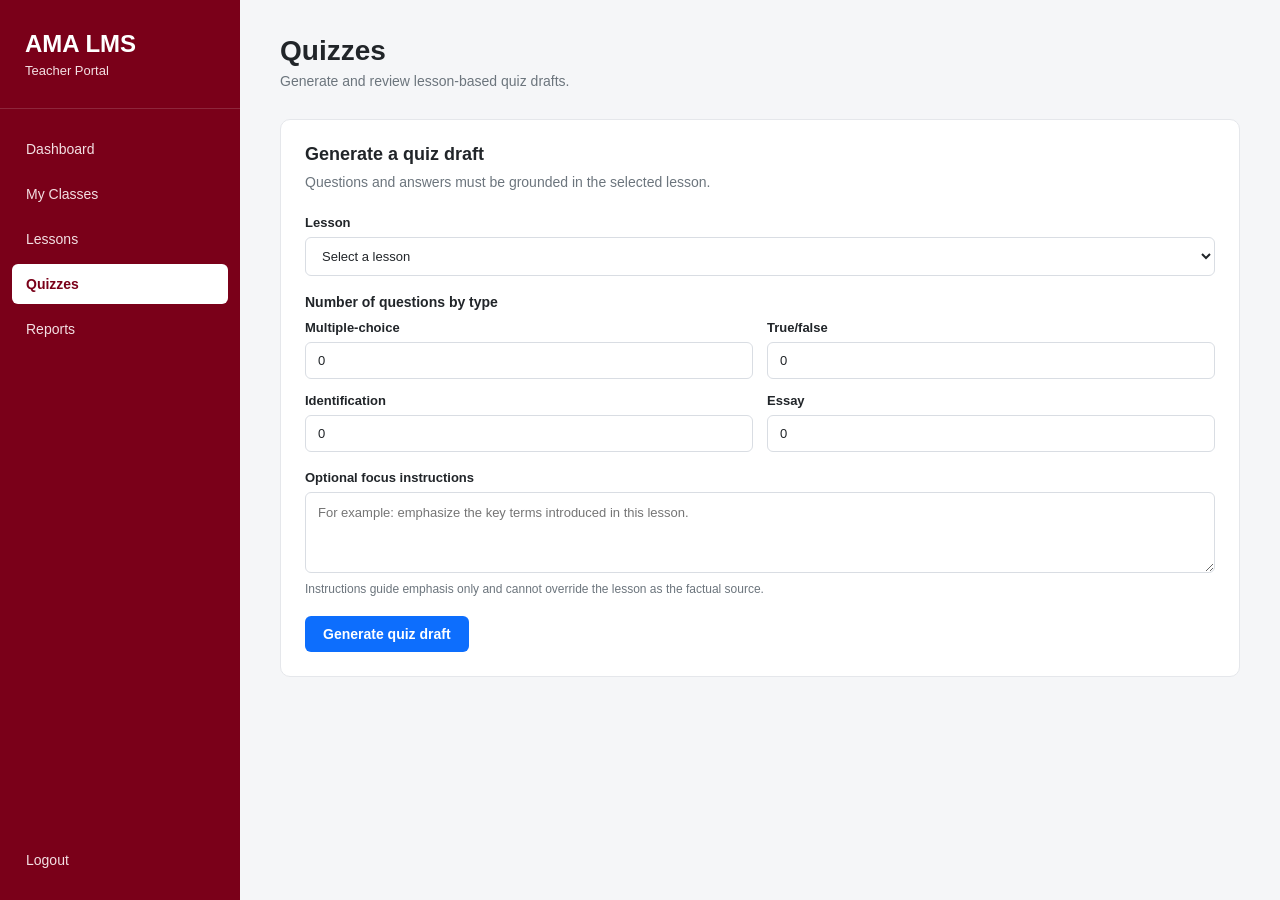
teacher quiz review › shows field-level API validation errors
Select "Cell Energy — ATP (draft)" in the dropdown labelled "Lesson". click: (760, 256)
box: [305,237,1215,276]
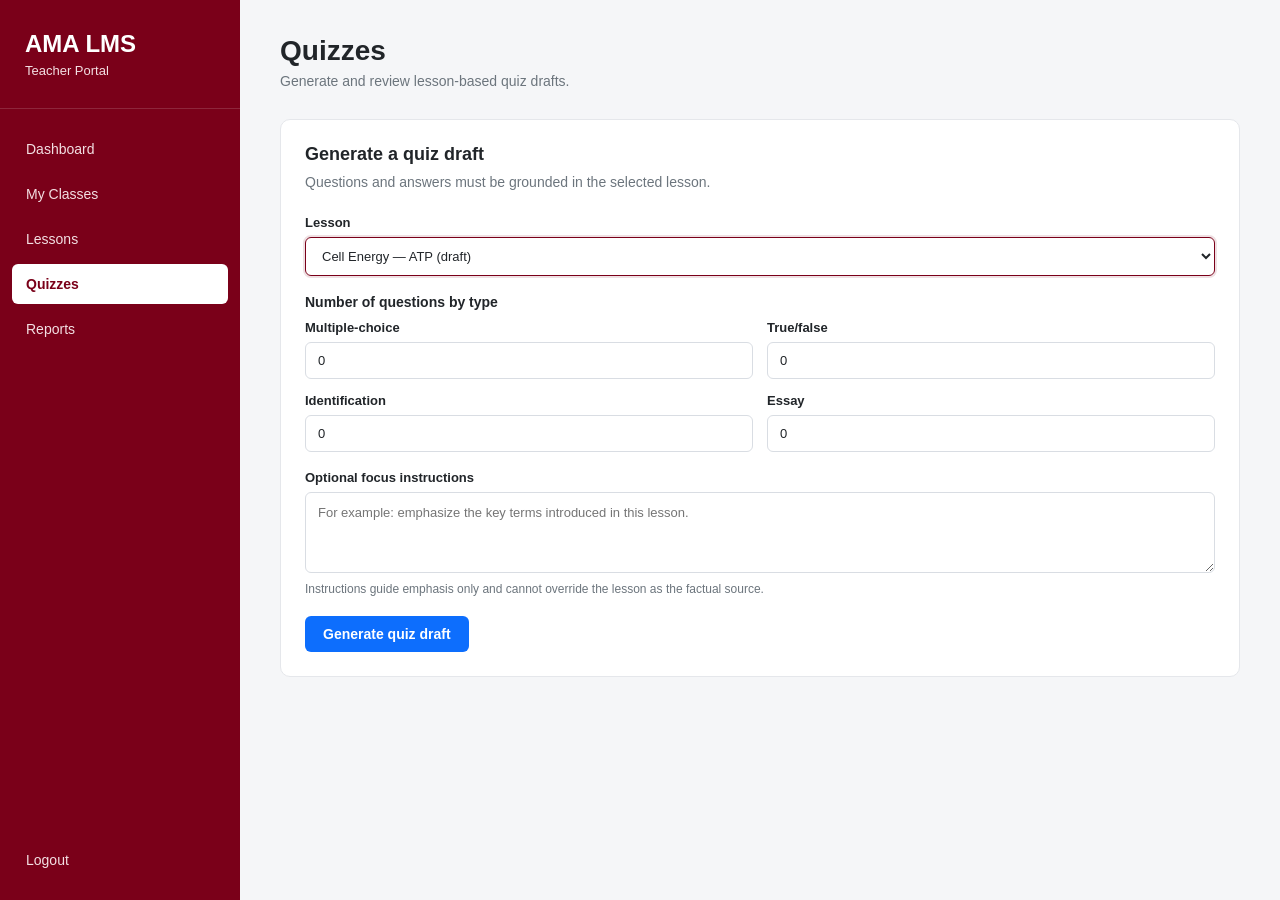
Replace the text in the number field named "Multiple-choice count" with "1". click: (529, 360)
box: [305,342,753,379]
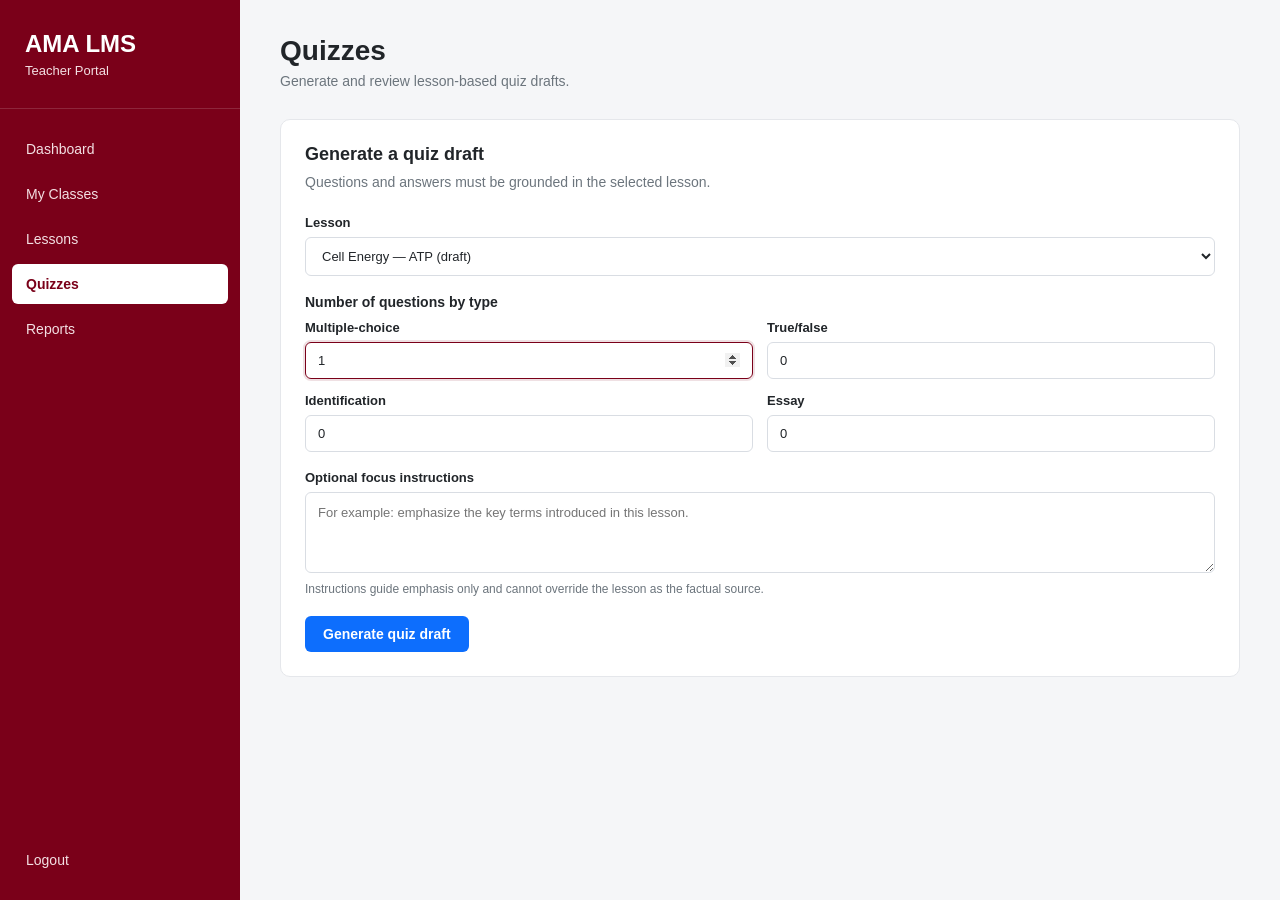
Click the button "Generate quiz draft". click: (387, 634)
box: [305,616,469,652]
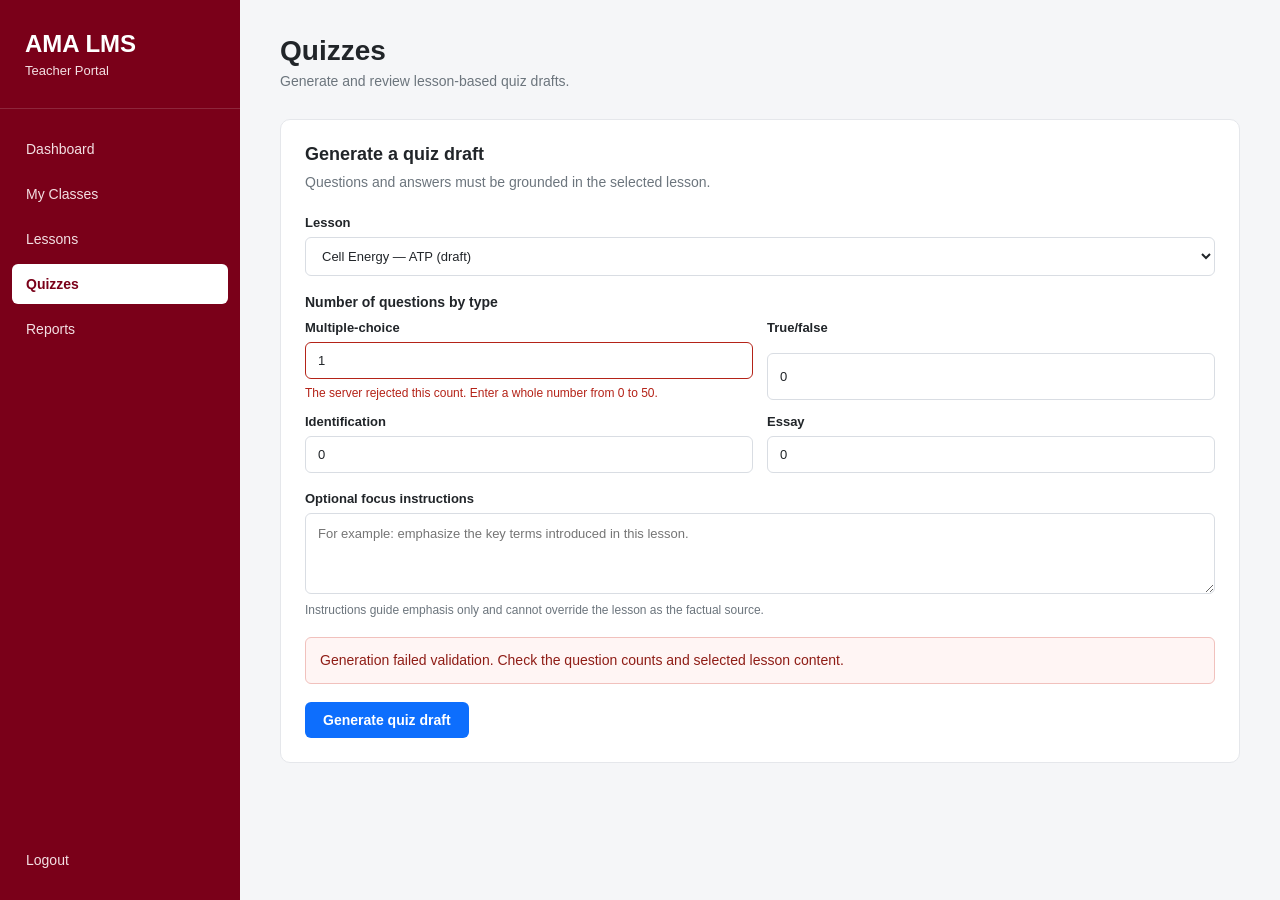
Expected: the text "The server rejected this count. Enter a whole number from 0 to 50." is shown, [305,386,658,400]
Expected: the text "Generation failed validation. Check the question counts and selected lesson content." is shown, [320,652,844,668]
